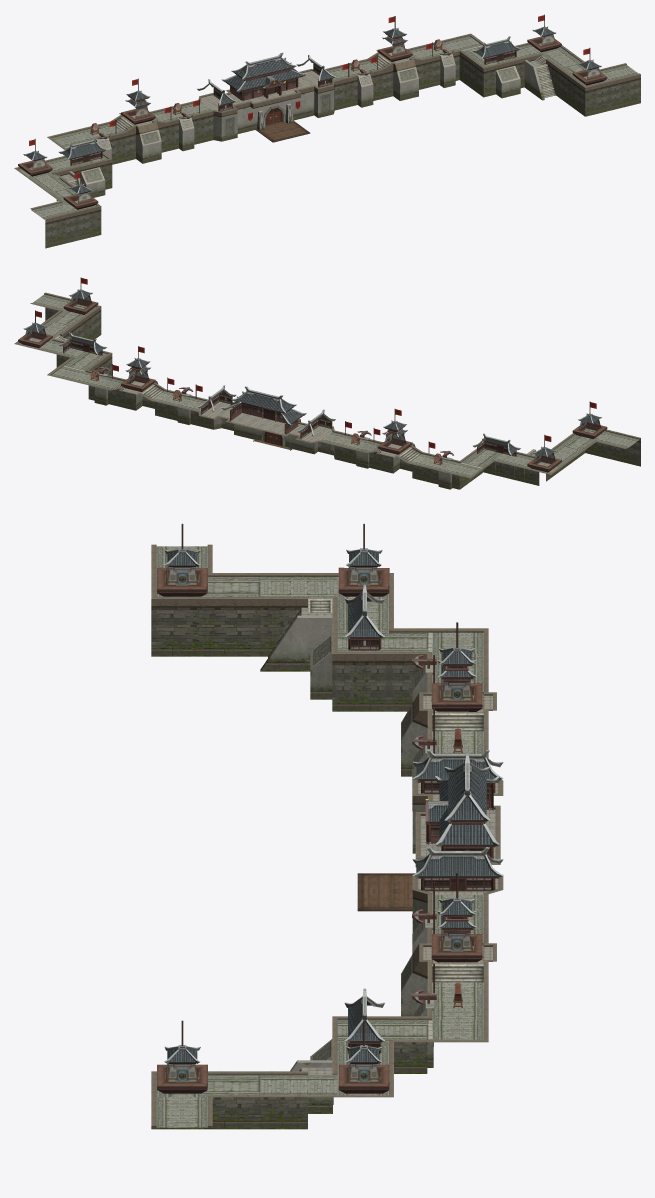
Rendered from zhucheng01.fbx.
3 views of the same model, one above another, from view 1: azimuth 30°, elevation 25°; view 2: azimuth 150°, elevation 25°; view 3: azimuth 270°, elevation 25° (orthographic). The views are drawn at different scales.
Parts seen in each view (by area): view 1: zhucheng001; view 2: zhucheng001; view 3: zhucheng001.
Boxes of the visible parts, <box> form: zhucheng001: <box>14,14,640,248</box>; zhucheng001: <box>14,277,640,489</box>; zhucheng001: <box>151,523,503,1129</box>.
Size of the model in its own units: 81.62 by 9.59 by 20.91.
